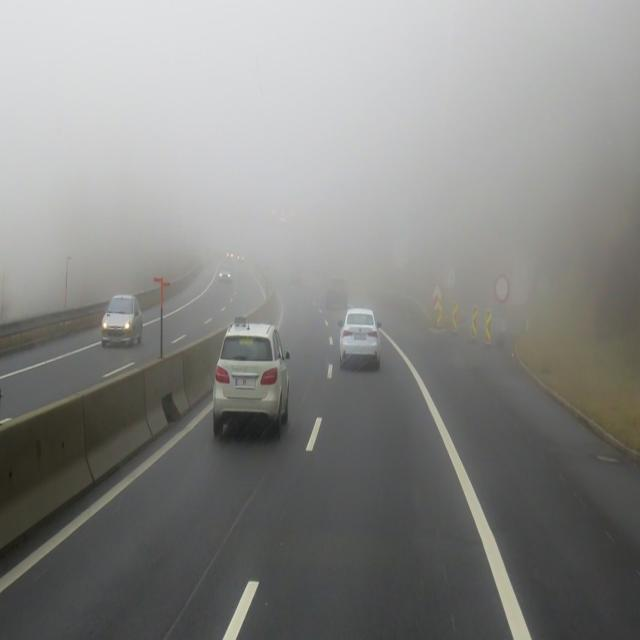car: (212, 321, 292, 442), (338, 306, 379, 371), (101, 293, 143, 347), (325, 274, 347, 309), (218, 263, 232, 283)
